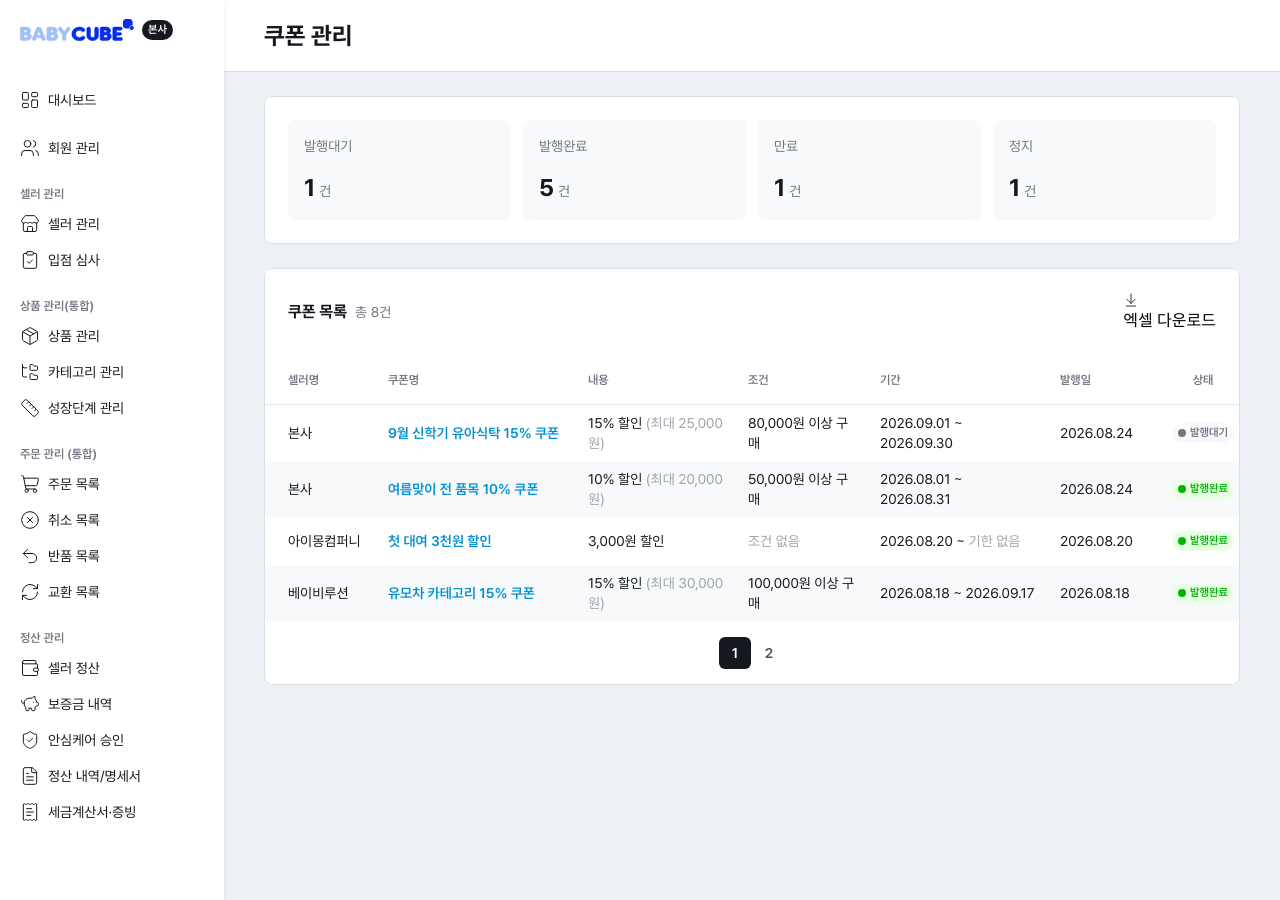
CouponListPage › 상태 대시 — 이 화면의 유일한 필터 (원본 StatDash) › 다시 누르면 해제된다 — 이 화면에는 '전체' 대시도 초기화 버튼도 없다
This screenshot has width=1280, height=900.
Click the button "정지 1 건" at (1104, 170), box 993,120 -> 1216,220
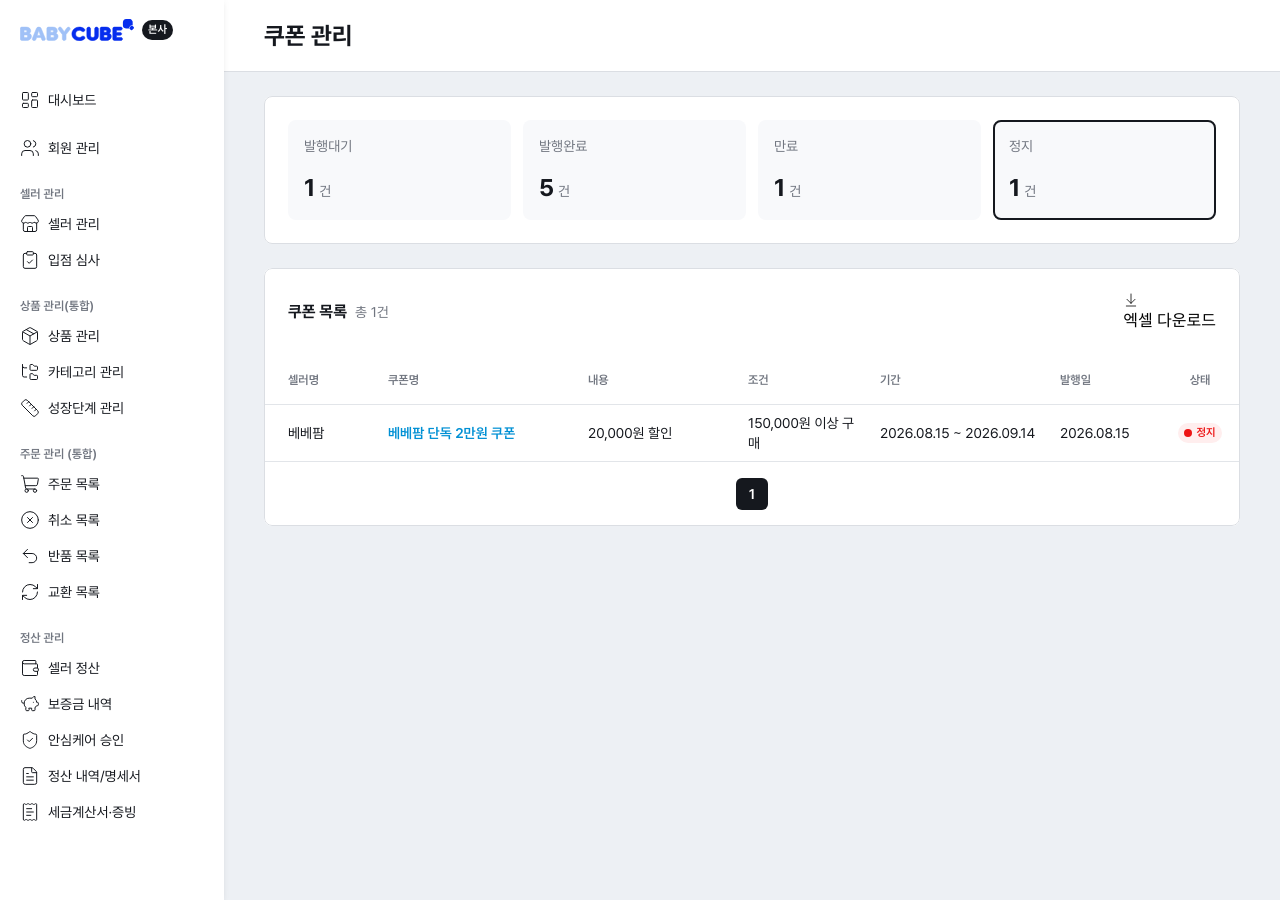
Result: the text "총 1건" is shown at 355,302 -> 389,322
Click the button "정지 1 건" at (1104, 170), box 993,120 -> 1216,220
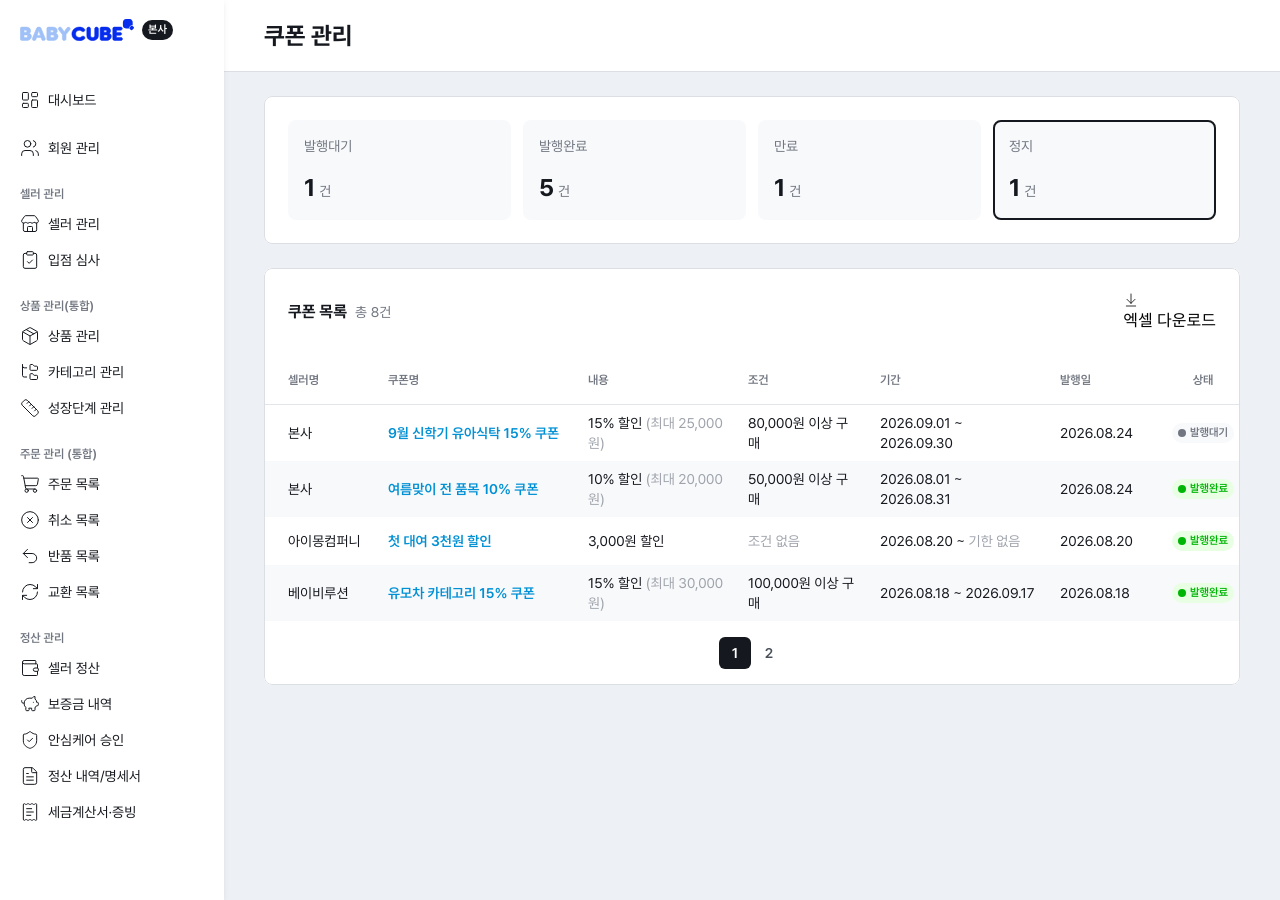
Result: the text "총 8건" is shown at 355,302 -> 391,322
